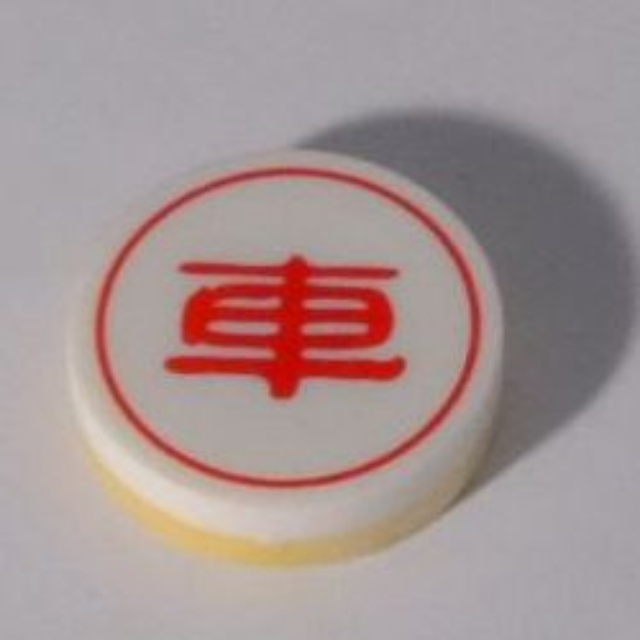red_xe: (60, 138, 524, 570)
